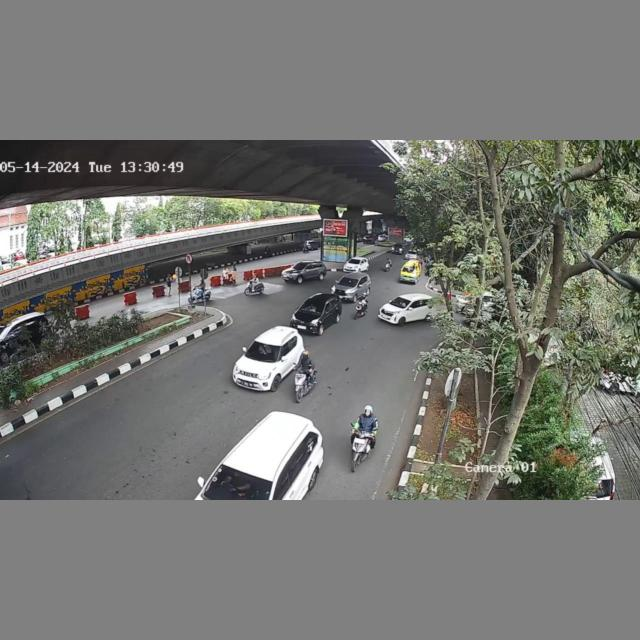windshield: (243, 340, 282, 362), (299, 298, 324, 316)
